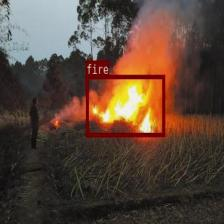fire: (86, 74, 164, 136)
